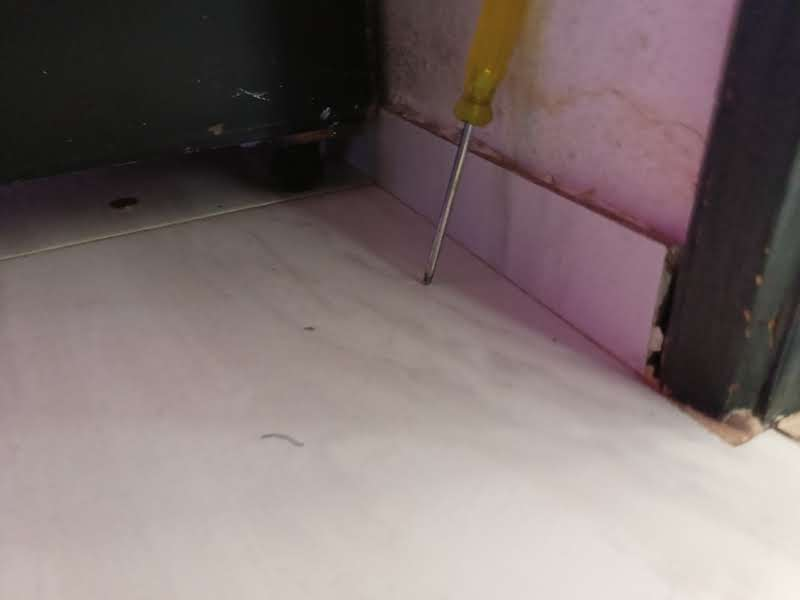Destornillador: (424, 0, 528, 283)
